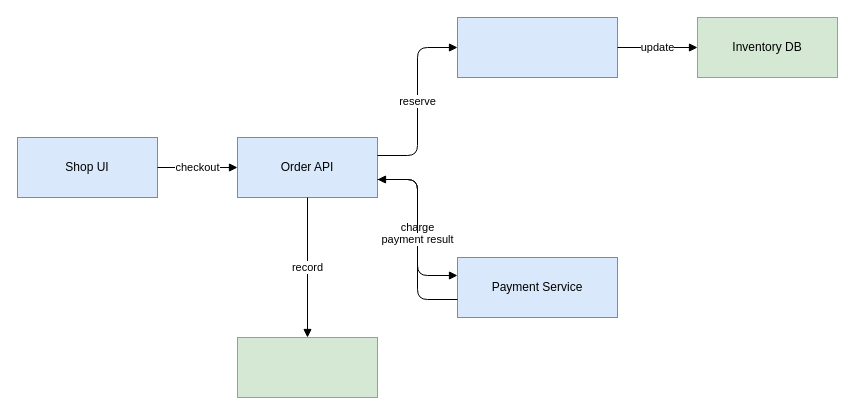
The diagram is 855 pixels wide and 415 high, and some of its shapes have lost their labels. Each missing label, with the centre of its shape:
"Audit Log" belongs at point (307, 367).
"Inventory Service" belongs at point (537, 47).
